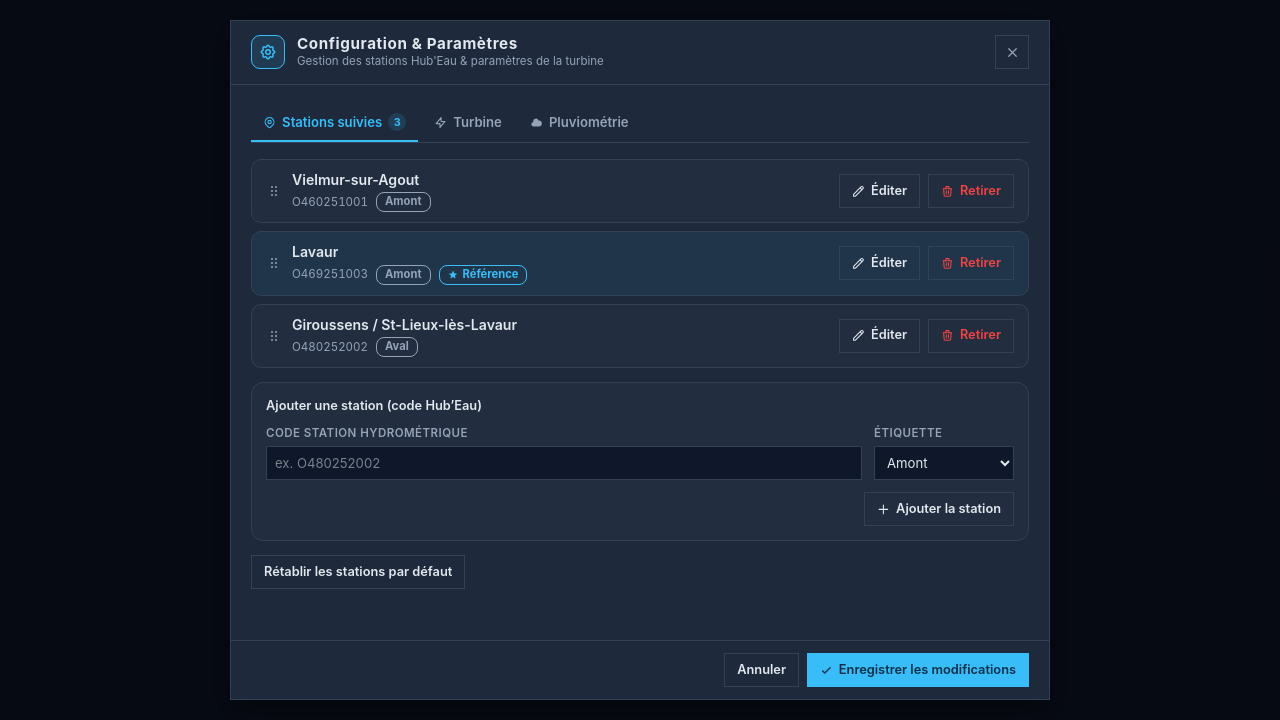
ConfigModal › onglet Stations › refuse un code déjà présent
Type "O460251001" into the field labelled "Code station hydrométrique" at (564, 463), box [275, 447, 853, 479]
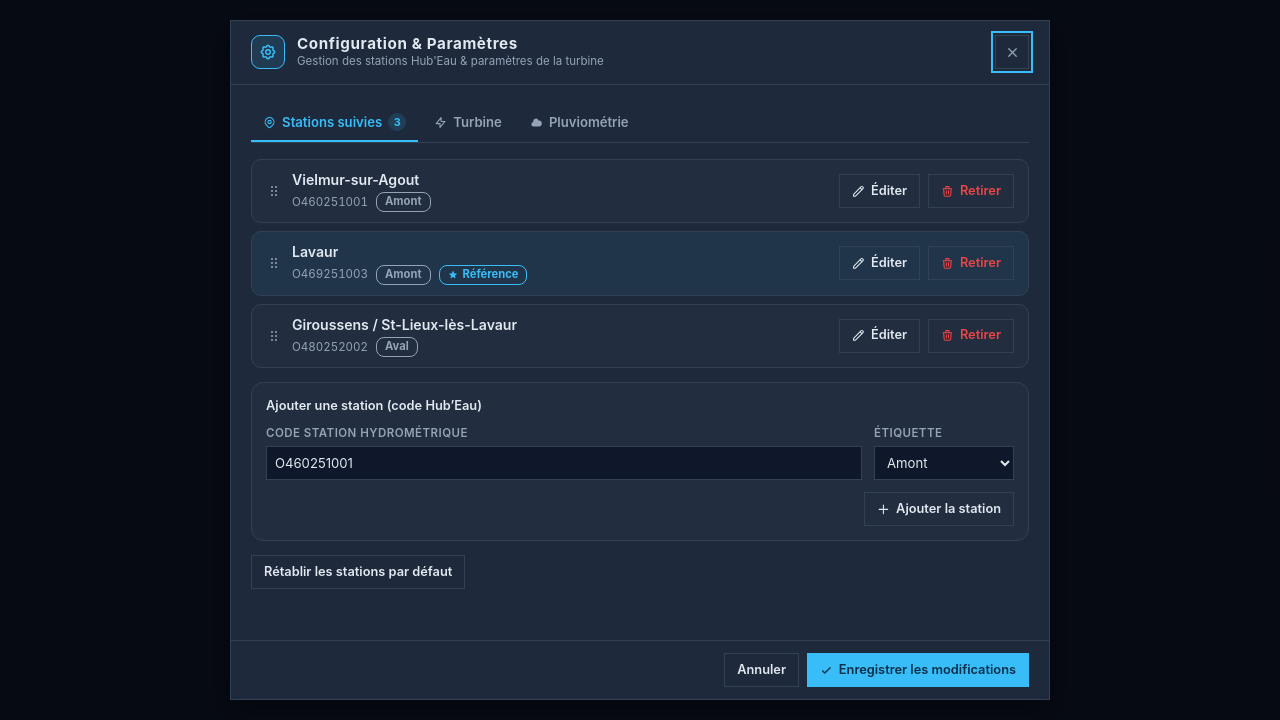
Click the button "Ajouter la station" at (939, 509), box [864, 492, 1014, 526]
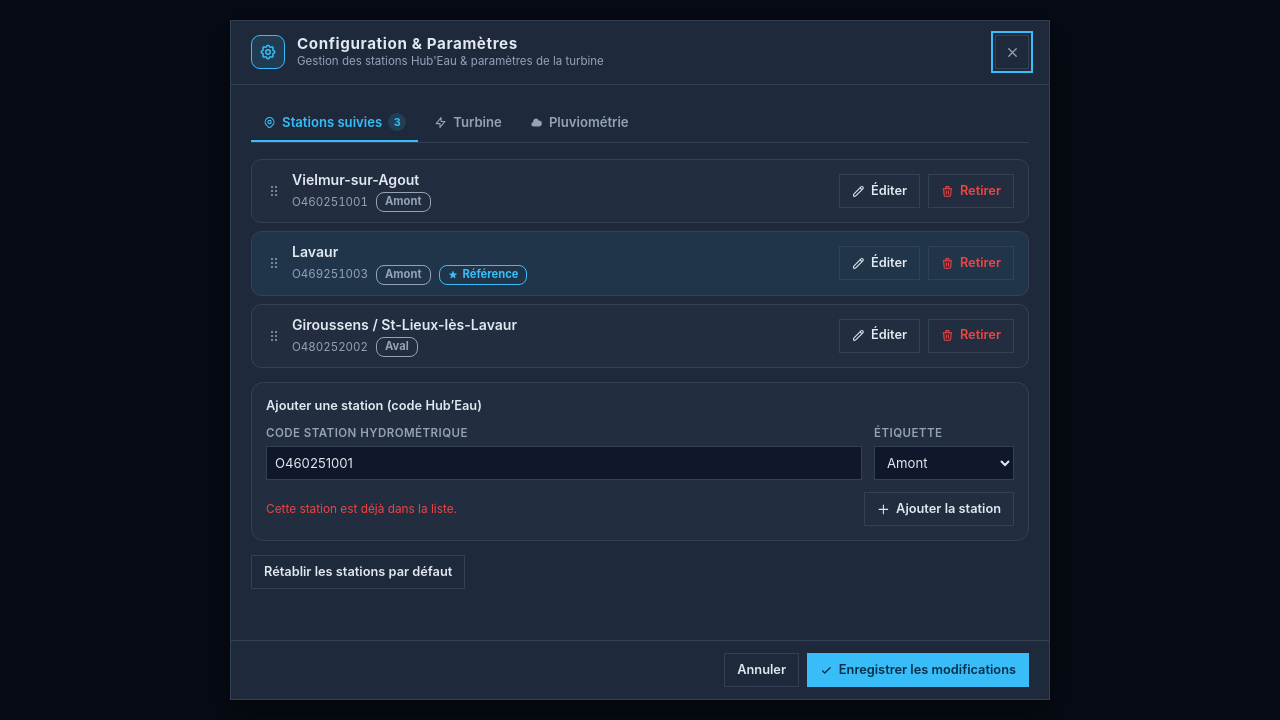
Expected: the message with class "cfg-add__msg" shows "déjà dans la liste", [266, 502, 457, 516]
